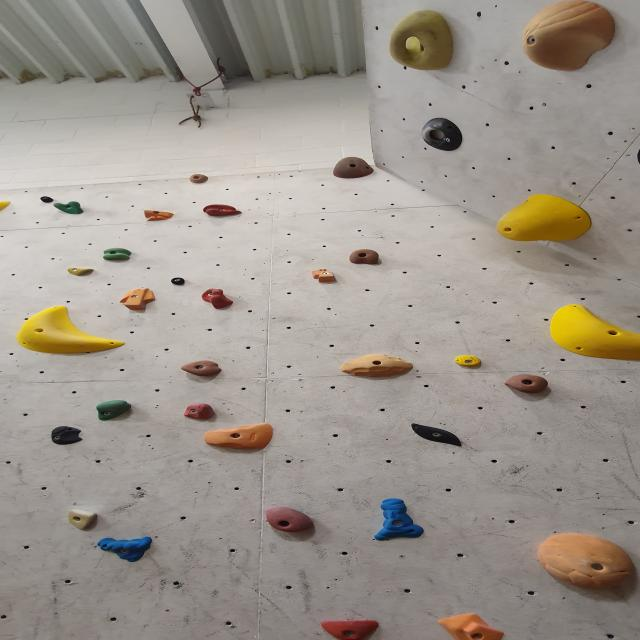Crimp: (96, 536, 154, 562), (66, 510, 100, 533), (202, 204, 242, 218), (142, 210, 176, 222)
Jug: (263, 508, 318, 534), (332, 154, 377, 179), (502, 376, 552, 396), (95, 399, 134, 421), (179, 359, 224, 377), (200, 288, 235, 310), (184, 403, 218, 423), (348, 250, 384, 266), (54, 202, 86, 216), (102, 248, 134, 262), (187, 174, 210, 185)
Pinch: (363, 495, 432, 545), (118, 287, 157, 310), (311, 270, 339, 286), (67, 266, 96, 276), (170, 277, 188, 287), (38, 195, 54, 202)
Pocket: (415, 114, 468, 154)
Sloper: (522, 0, 621, 72), (535, 534, 637, 593), (15, 309, 130, 359), (547, 306, 638, 362), (496, 194, 598, 243), (434, 611, 507, 640), (203, 424, 276, 452), (338, 354, 417, 378), (319, 620, 380, 640), (50, 426, 84, 446), (0, 198, 12, 220)
